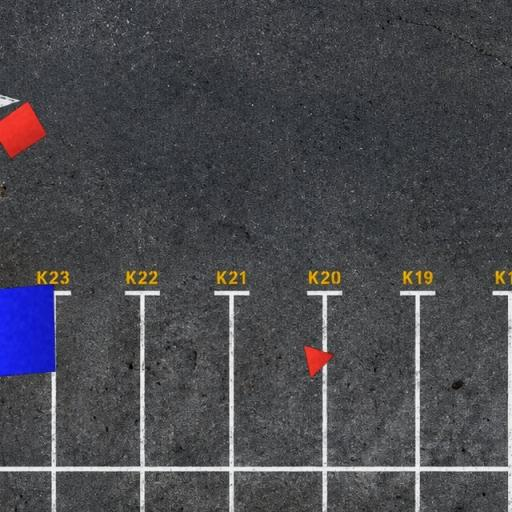BLUE_SQUARE: (0, 283, 57, 379)
RED_SQUARE: (0, 100, 48, 159)
